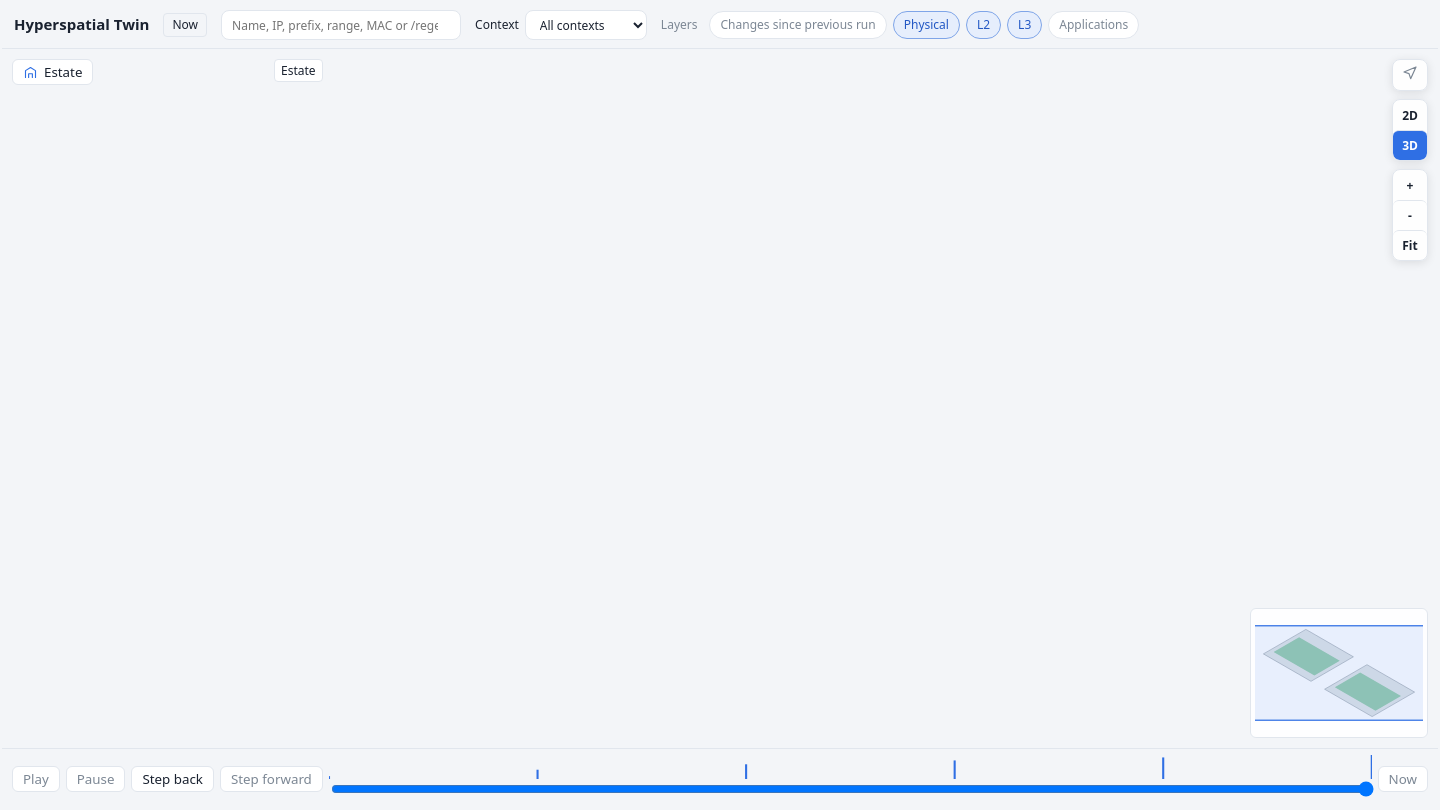
HstMapPage › opens at Now and states History after a step back
The image size is (1440, 810).
Expected: the message reads "Now", top-left (172, 16), bottom-right (198, 33)
Click the button "Step back" at (173, 779), box top-left (132, 766), bottom-right (214, 792)
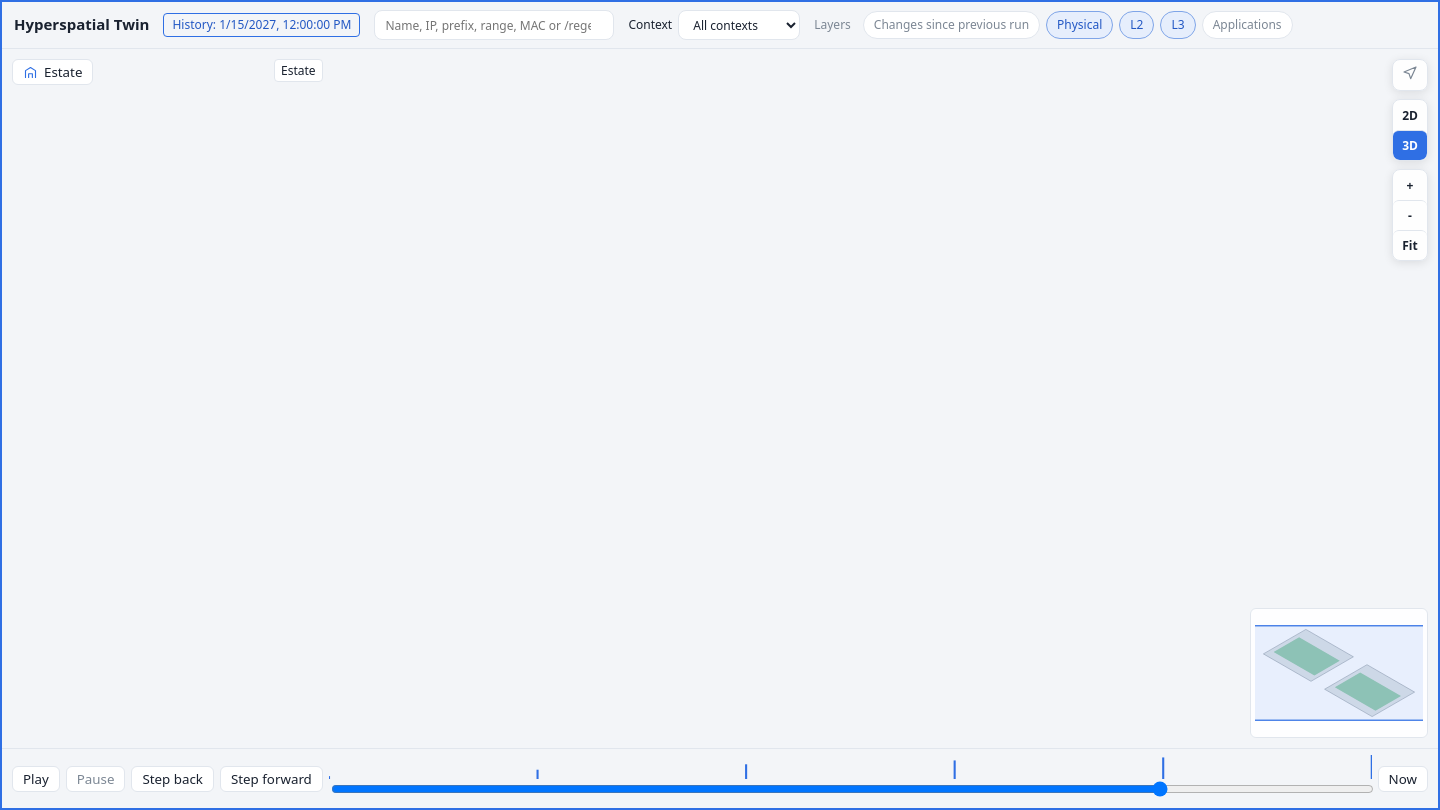
Result: the message shows "History:" at top-left (172, 16), bottom-right (351, 33)
Click the button "Now" at (1403, 779), box top-left (1378, 766), bottom-right (1428, 792)
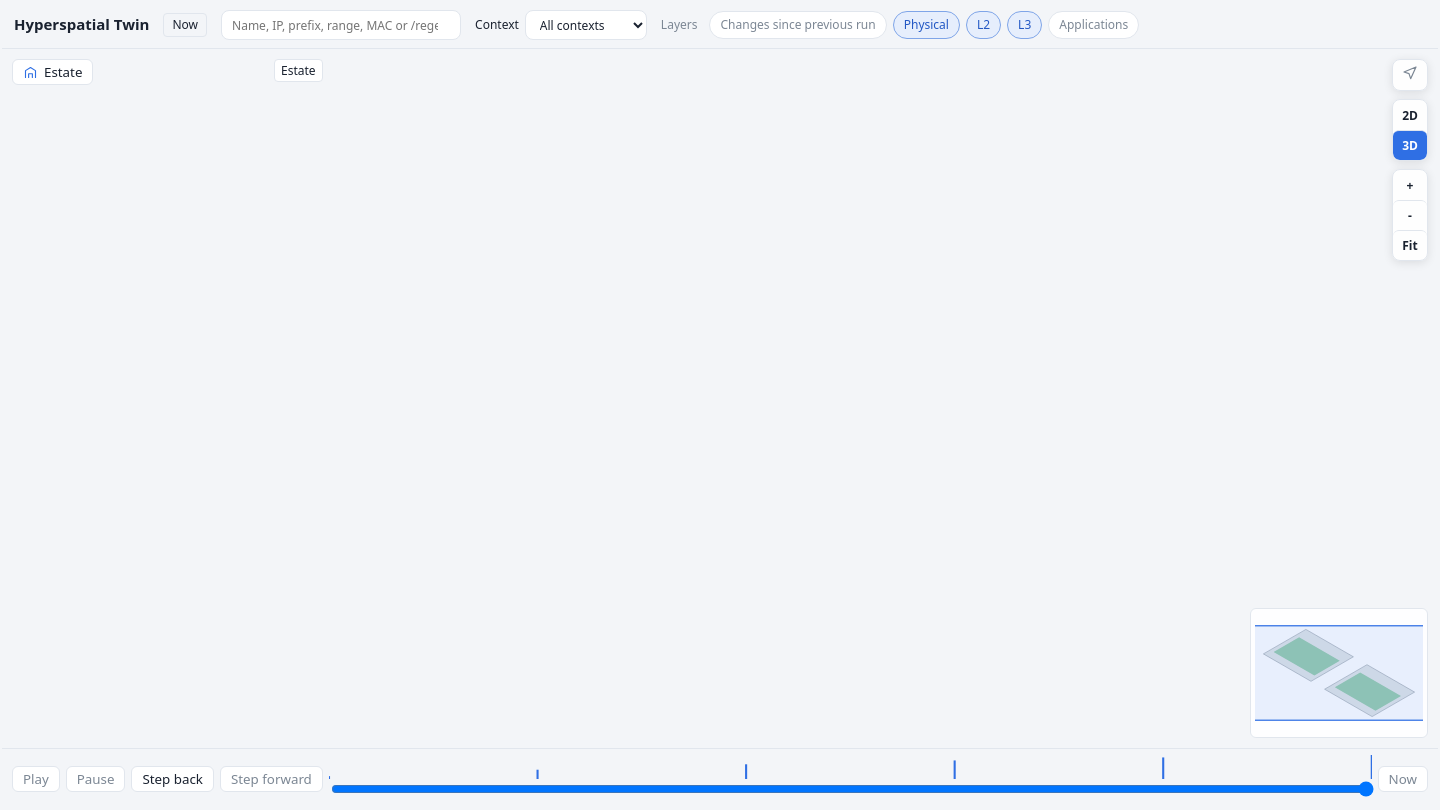
Result: the message reads "Now" at top-left (172, 16), bottom-right (198, 33)
